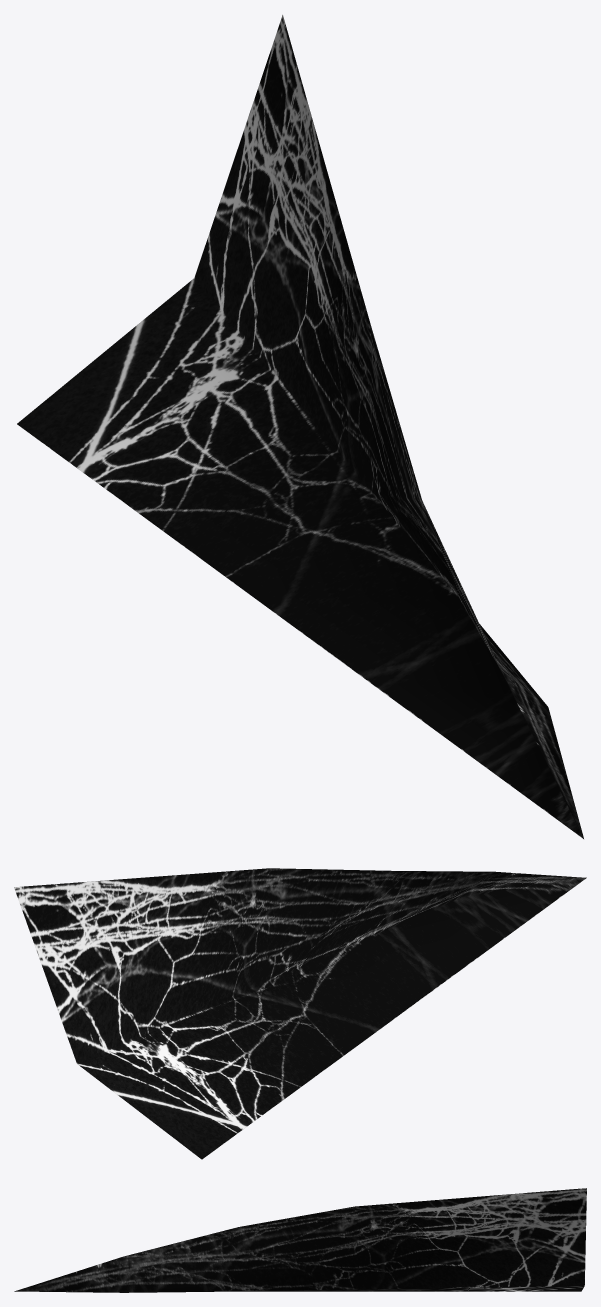
Rendered from Li_Web_spider_03.FBX.
3 renders of one model, top to bottom at view 1: azimuth 30°, elevation 25°; view 2: azimuth 150°, elevation 25°; view 3: azimuth 270°, elevation 25°, orthographic. The views are drawn at different scales.
Visible parts, largest first — view 1: LI_Web_03; view 2: LI_Web_03; view 3: LI_Web_03.
Part boxes in pixels (x1=…): LI_Web_03: x1=17, y1=15, x2=583, y2=838; LI_Web_03: x1=14, y1=868, x2=586, y2=1159; LI_Web_03: x1=14, y1=1188, x2=586, y2=1292.
Size of the model in its own units: 16.06 by 19.18 by 58.7.
Materials: 1 (1 with a texture image).
